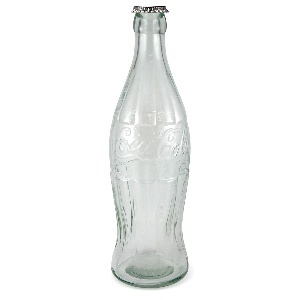emptybottle: (108, 6, 189, 288)
